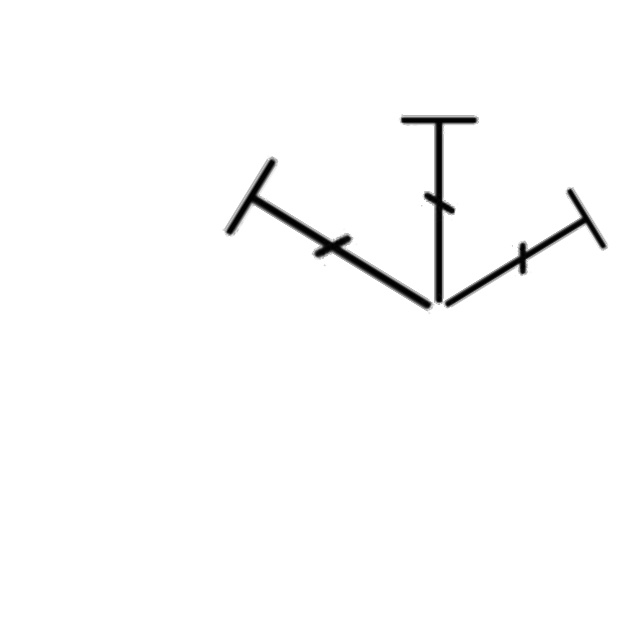chain: (215, 147, 466, 353), (420, 182, 617, 344), (397, 108, 483, 311)
